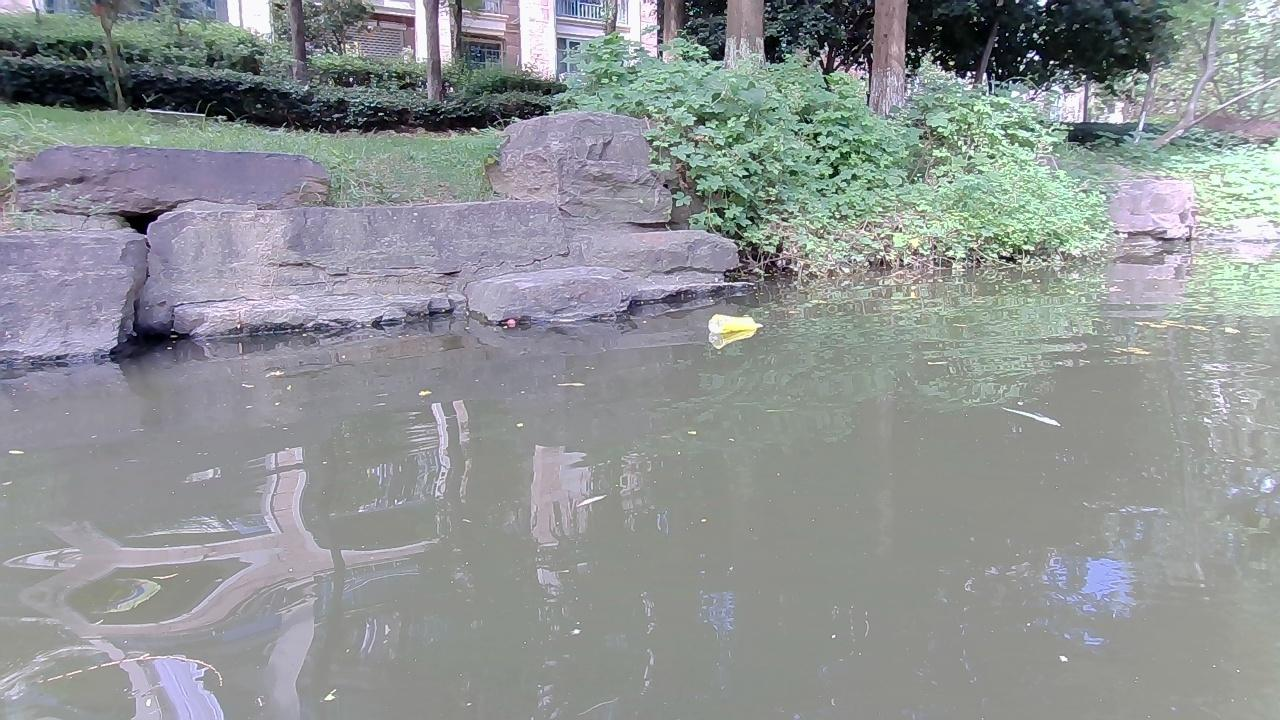bottle: (706, 312, 765, 335)
